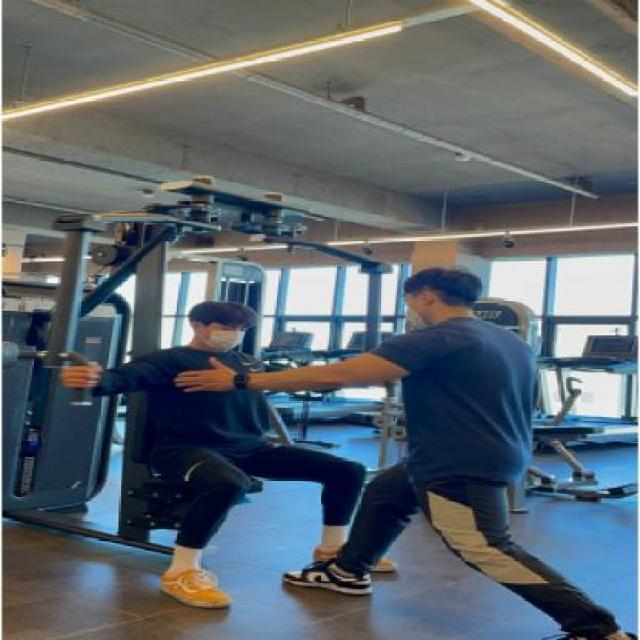chest fly machine: (0, 147, 466, 640)
